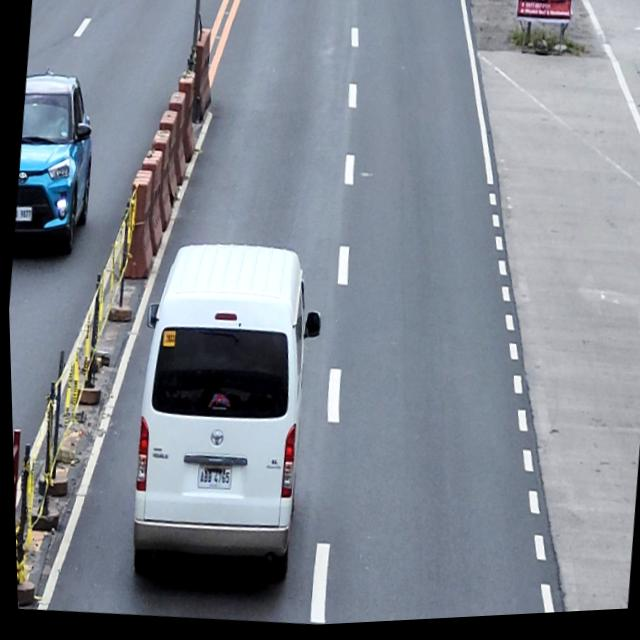Car: (116, 232, 333, 593), (7, 64, 101, 256)
License-Plate: (191, 463, 230, 494), (13, 204, 32, 224)
